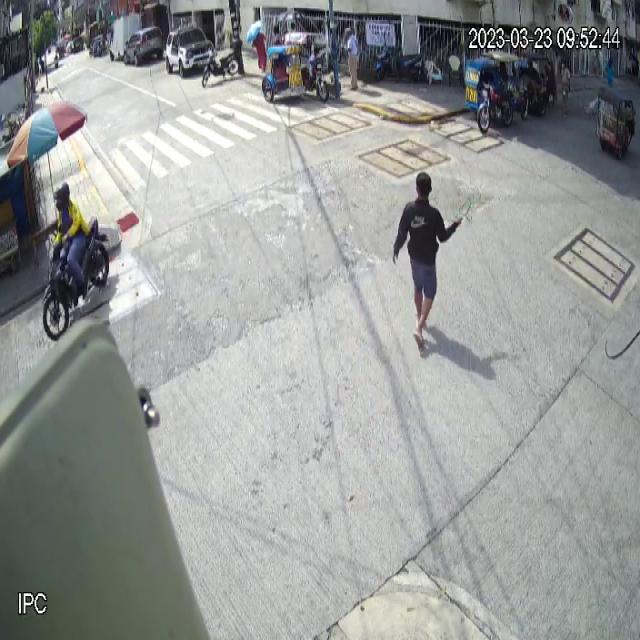Motorcycle: (41, 213, 111, 343)
Tricycle: (262, 30, 330, 105), (464, 50, 523, 136)
